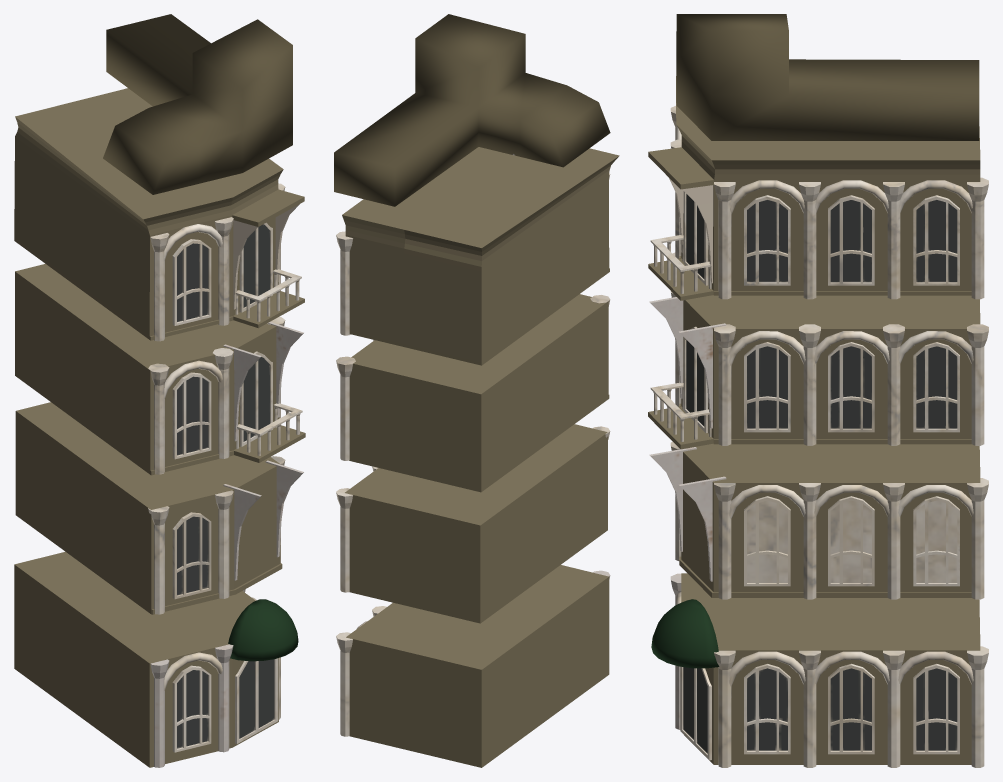
The model's file is CornerBuilding.fbx.
3 renders of one model, left to right at view 1: azimuth 30°, elevation 25°; view 2: azimuth 150°, elevation 25°; view 3: azimuth 270°, elevation 25°, orthographic. The views are drawn at different scales.
Parts seen in each view (by area): view 1: Cube.034, Sphere.001, Cylinder.003, Cube.033, Cube.035; view 2: Cube.034, Sphere.001, Cube.033, Cylinder.003, Cube.035; view 3: Sphere.001, Cube.034, Cylinder.003, Cube.033, Cube.035.
Part boxes in pixels (<box>): Cube.034: <box>14,88,304,341</box>; Sphere.001: <box>14,551,298,767</box>; Cylinder.003: <box>15,264,305,475</box>; Cube.033: <box>15,402,303,614</box>; Cube.035: <box>103,14,292,194</box>; Cube.034: <box>336,147,619,365</box>; Sphere.001: <box>336,565,610,767</box>; Cube.033: <box>336,424,610,623</box>; Cylinder.003: <box>336,294,610,492</box>; Cube.035: <box>334,14,610,206</box>; Sphere.001: <box>651,573,988,767</box>; Cube.034: <box>648,76,988,300</box>; Cylinder.003: <box>648,252,988,449</box>; Cube.033: <box>649,441,988,599</box>; Cube.035: <box>676,14,979,140</box>.
Size of the model in its own units: 624 by 2424 by 1011.
Materials: 1 (1 with a texture image).
